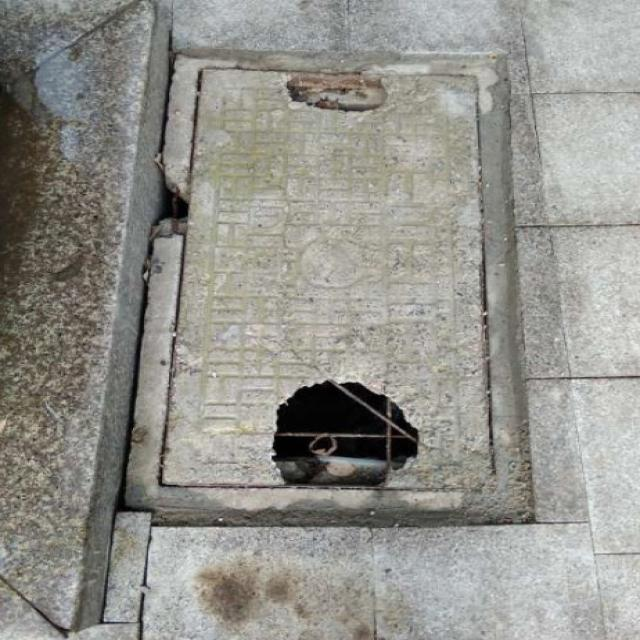Broken: (119, 34, 572, 536)
